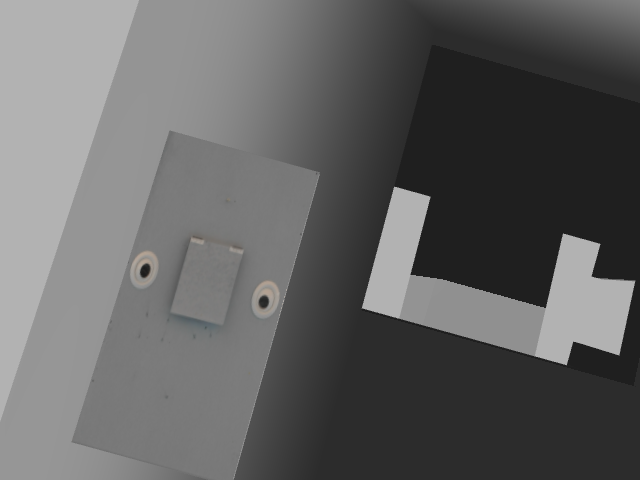facade: (123, 233, 281, 328)
